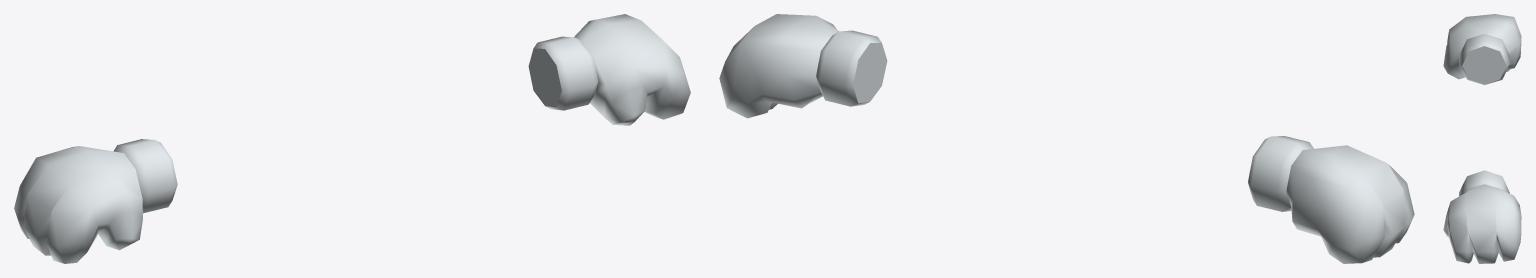
Rendered from Glove_1.fbx.
3 renders of one model, left to right at view 1: azimuth 30°, elevation 25°; view 2: azimuth 150°, elevation 25°; view 3: azimuth 270°, elevation 25°, orthographic. The views are drawn at different scales.
Parts seen in each view (by area): view 1: Glove_1; view 2: Glove_1; view 3: Glove_1.
Boxes of the visible parts, bbox=[...] form: Glove_1: bbox=[14, 14, 690, 263]; Glove_1: bbox=[719, 14, 1414, 263]; Glove_1: bbox=[1443, 14, 1521, 263].
Size of the model in its own units: 136 by 18.36 by 21.27.
